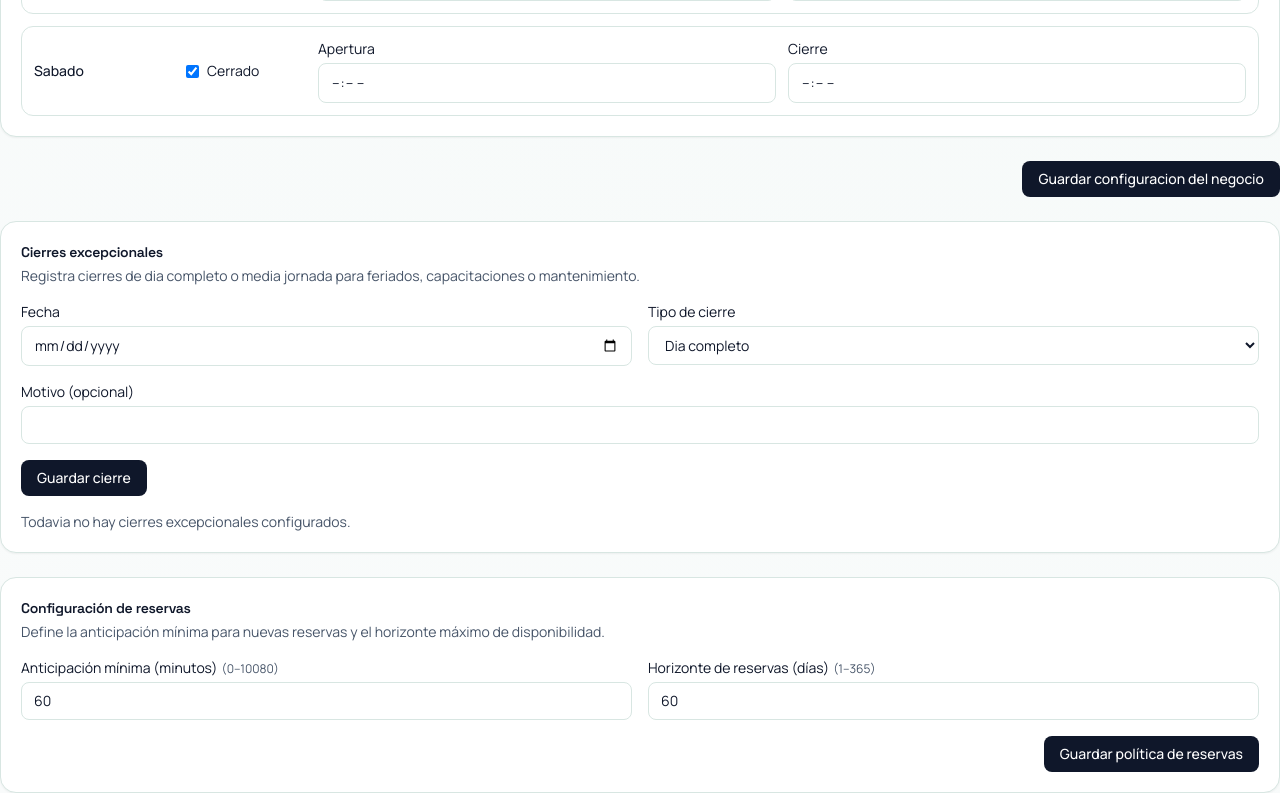
Test: BusinessSettingsPage › Configuración de reservas section › shows validation error when notice is above max
(page scrolled)
Replace the text in the number field labelled "Anticipación mínima (minutos)" with "10081" at {"x": 326, "y": 701}, box [21, 682, 632, 720]
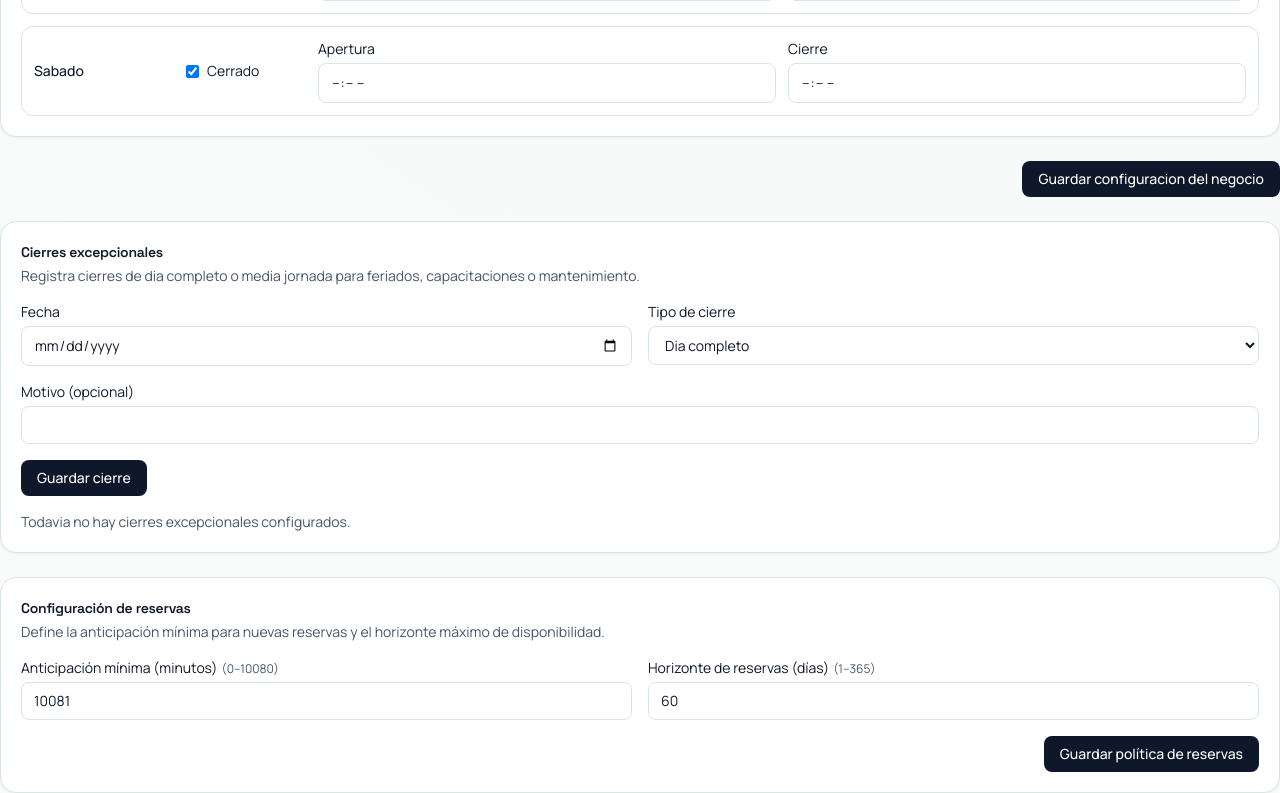
Submit the form labelled "Anticipación mínima (minutos)", box [21, 658, 1259, 772]
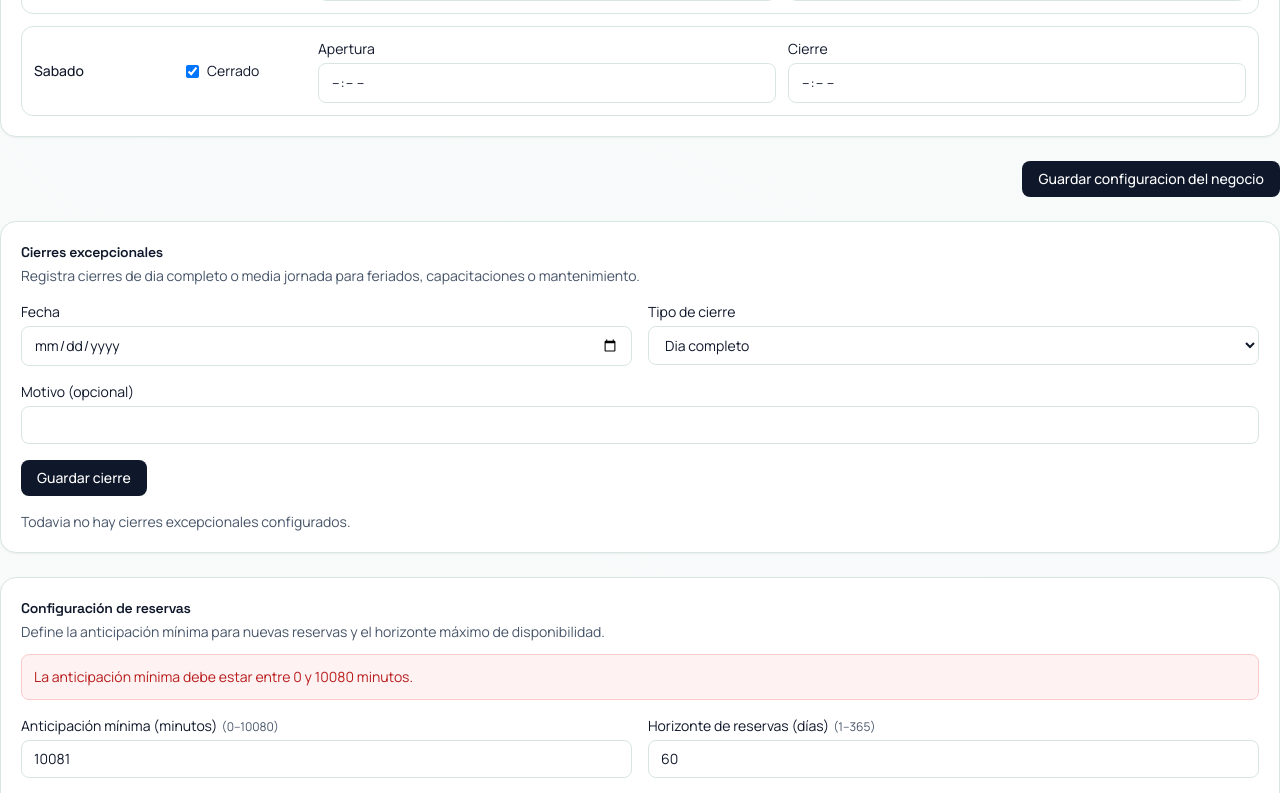
Expected: the text "La anticipación mínima debe estar entre 0 y 10080 minutos." is shown, [21, 654, 1259, 700]
